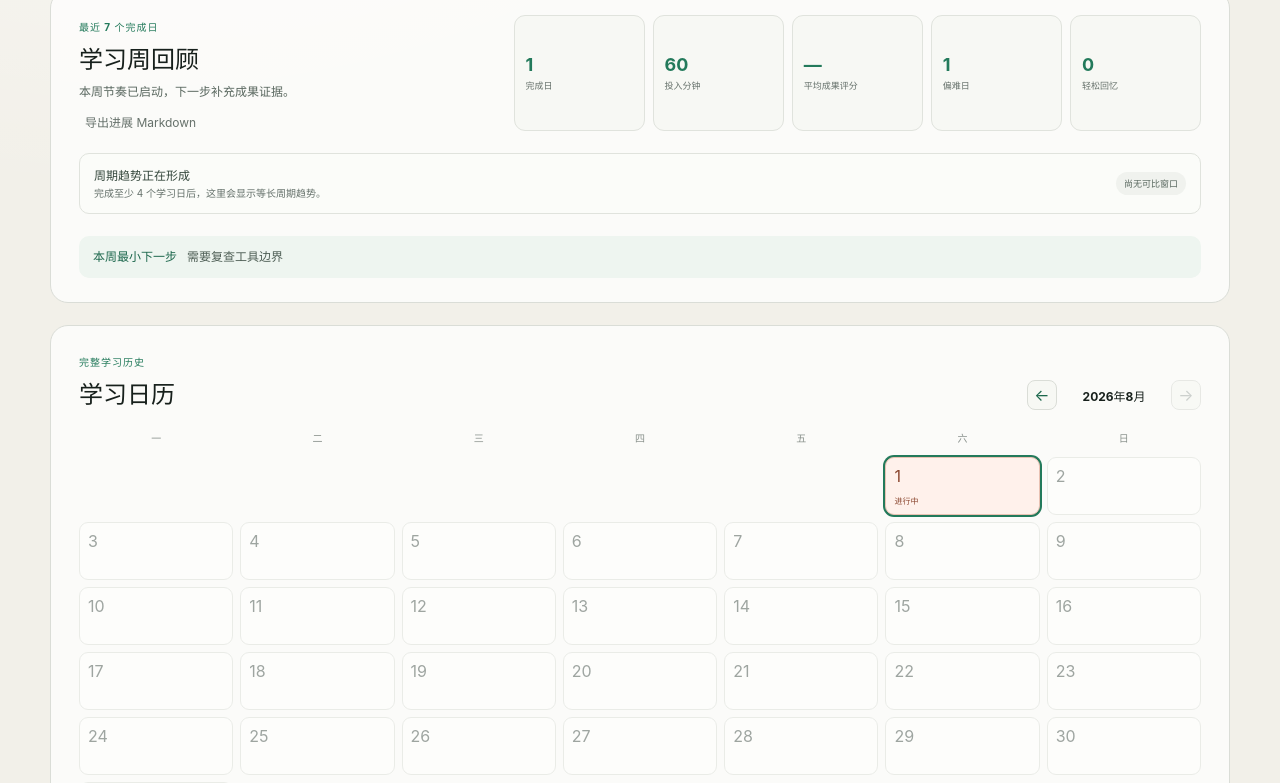
learning data controls › navigates the learning calendar and opens evidence for a recorded date
The image size is (1280, 783).
(page scrolled)
expect the text "2026年8月" is shown: met, box [1083,389,1145,404]
Click the button named "查看上个月".
click(1042, 395)  # box [1027,380,1057,410]
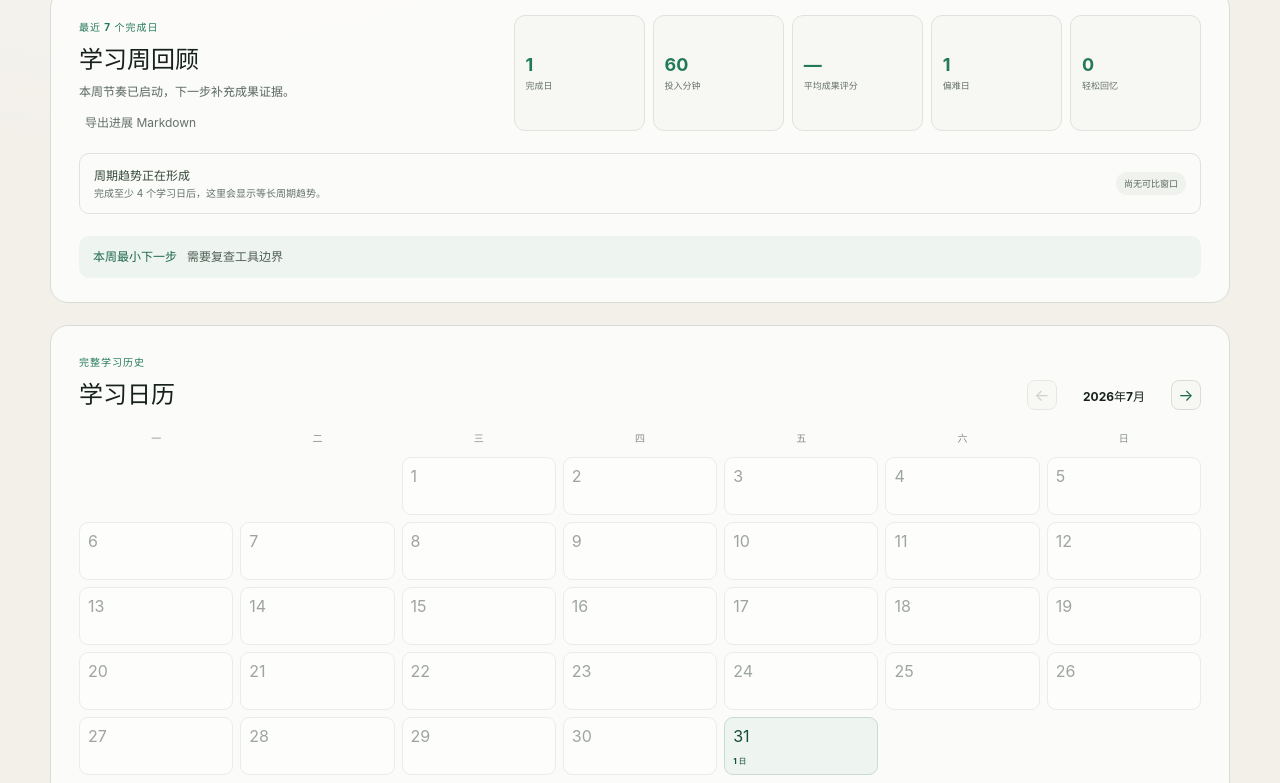
Click the button named "2026-07-31，1 个完成日".
click(801, 746)  # box [724,717,878,775]
(page scrolled)
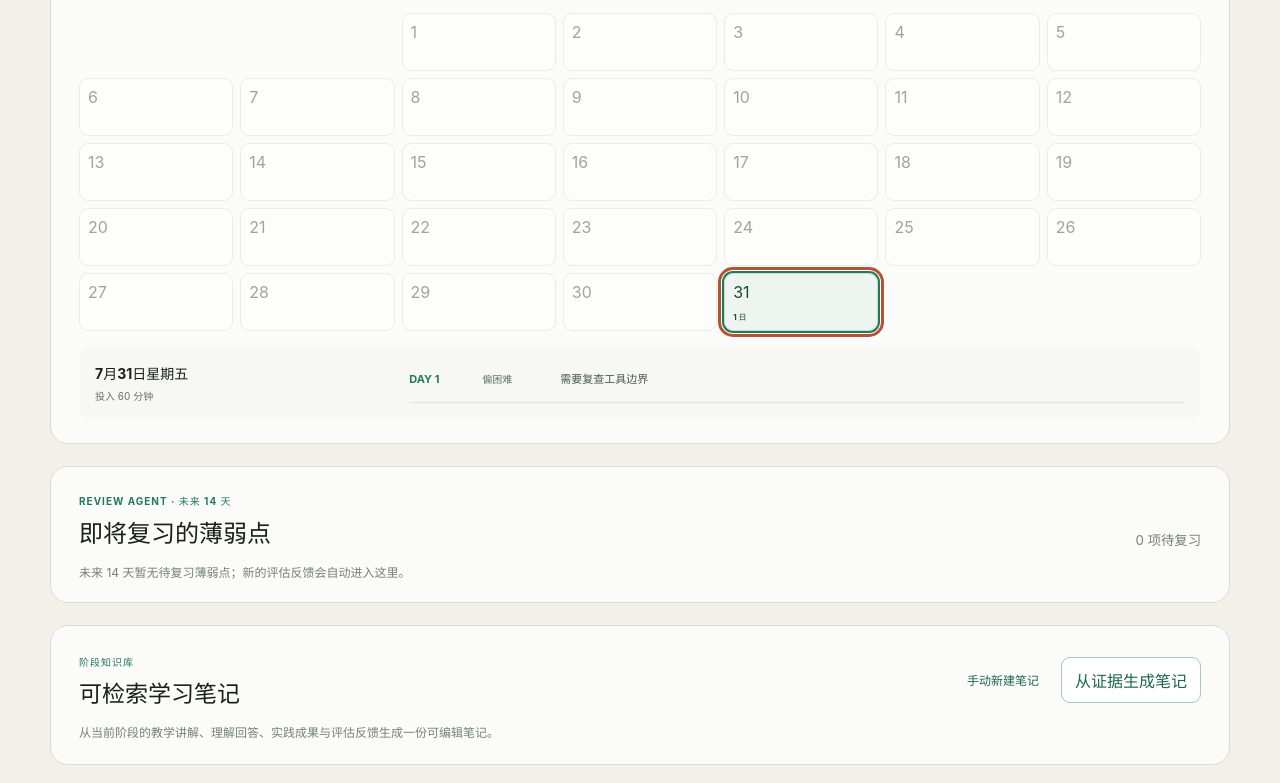
expect the text "需要复查工具边界" is shown: met, box [560,372,648,386]
expect the text "投入 60 分钟" is shown: met, box [95,390,153,402]
